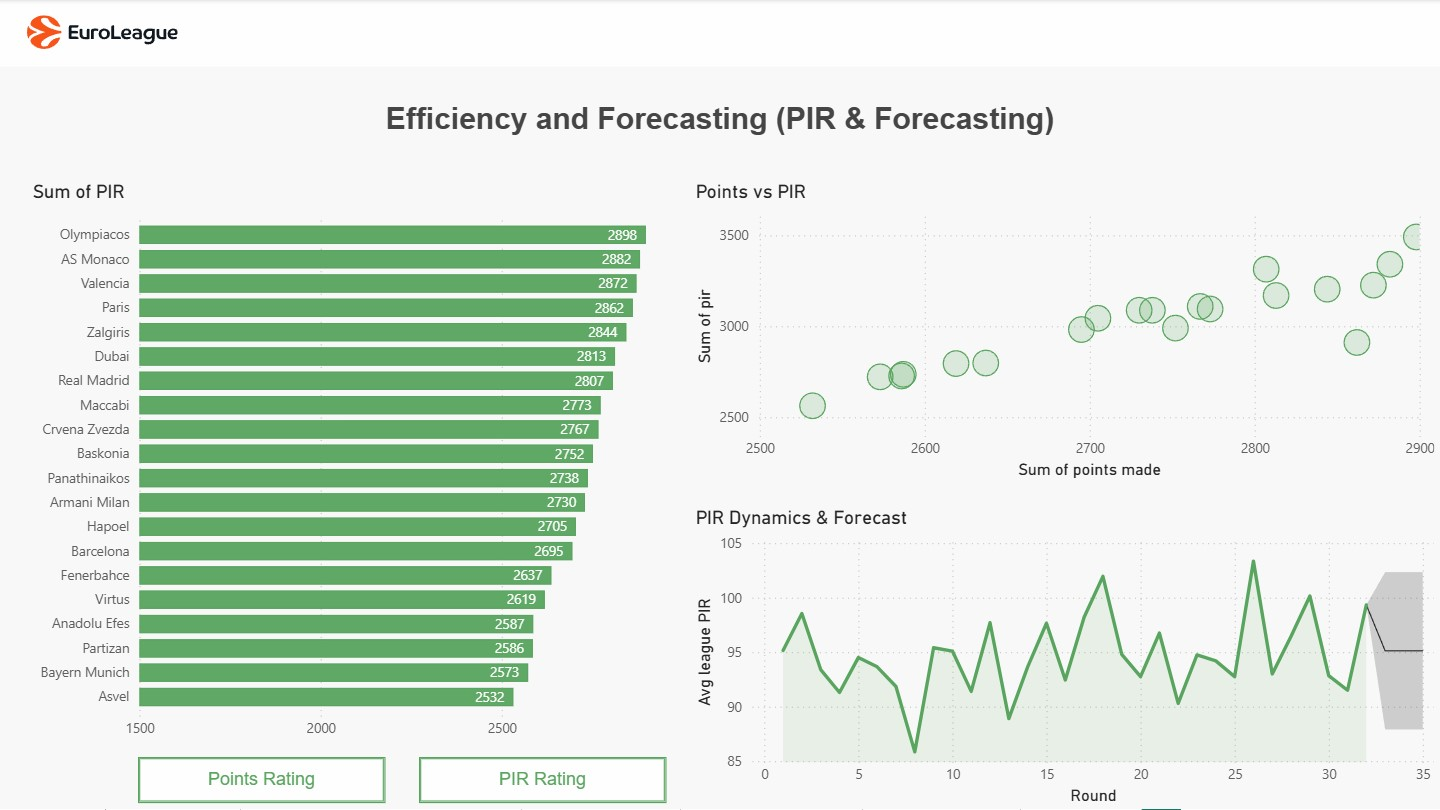

The dashboard page shown, as its layout file describes it:
{"tool":"powerbi","page":{"name":"Efficiency and Forecasting","canvas":[1280,720],"ordinal":3},"visuals":[{"type":"scatterChart","title":"Points vs PIR","fields":{"X":["Sum(Matches_Stat.points made)"],"Y":["Sum(Matches_Stat.pir)"],"Category":["Matches_Stat.Slicer_Team"]},"box":[613.5,160.8,666.5,270],"z":0},{"type":"lineChart","title":"PIR Dynamics & Forecast","fields":{"Category":["Matches.Round_ID"],"Y":["Avg(Matches_Stat.pir)"]},"box":[613.6,450.3,666.4,269.8],"z":1000},{"type":"shape","box":[0,0,1280,60],"z":3000},{"type":"image","box":[24.1,12.5,134.5,34],"z":4000},{"type":"textbox","box":[0,89.6,1280,41.5],"z":5000},{"type":"clusteredBarChart","title":"Sum of PIR","fields":{"Category":["Matches_Stat.Slicer_Team"],"Y":["Sum(Matches_Stat.points made)"]},"box":[24,160.5,568.1,505.5],"z":6000},{"type":"actionButton","title":"Points Rating Btn","box":[123,673.4,219.6,40.6],"z":7000},{"type":"actionButton","title":"PIR Rating Btn","box":[372.2,673.4,219.6,40.6],"z":8000}]}

Visuals, with their boxes in screenshot pixels (x1, y1, x2, y2), scaled from the page's 1280x720 canvas onto the 1440x810 screenshot:
"Points vs PIR" scatterChart: 690/181/1439/485
"PIR Dynamics & Forecast" lineChart: 690/507/1439/809
shape: 0/0/1439/68
image: 27/14/178/52
textbox: 0/101/1439/147
"Sum of PIR" clusteredBarChart: 27/181/666/749
"Points Rating Btn" actionButton: 138/758/385/803
"PIR Rating Btn" actionButton: 419/758/666/803
